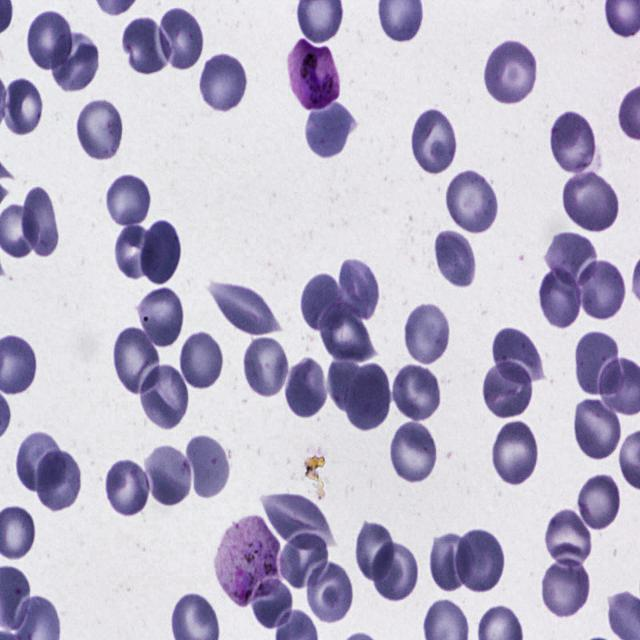difficult: (215, 514, 283, 611), (287, 38, 342, 112)
red blood cell: (257, 491, 337, 549), (452, 525, 509, 596), (444, 168, 501, 235), (210, 280, 282, 332), (482, 40, 538, 106), (113, 324, 163, 396), (138, 365, 191, 432), (563, 170, 619, 233), (298, 270, 348, 340), (182, 430, 232, 500), (320, 301, 377, 362), (489, 326, 548, 384), (482, 358, 536, 421), (576, 256, 627, 322), (402, 299, 452, 366), (14, 430, 66, 494), (75, 96, 126, 161), (388, 419, 439, 484), (122, 14, 175, 76), (573, 397, 624, 461), (491, 420, 539, 488), (136, 284, 187, 348), (544, 232, 600, 290), (411, 107, 458, 176), (157, 5, 206, 71), (34, 449, 83, 515), (49, 31, 101, 93), (199, 51, 250, 114), (304, 560, 355, 623), (541, 555, 591, 619), (242, 334, 290, 400), (144, 444, 193, 508), (332, 257, 381, 321), (346, 364, 392, 432), (26, 7, 74, 72), (575, 332, 622, 398), (548, 108, 597, 171), (278, 532, 328, 593), (368, 542, 420, 600), (304, 100, 354, 160), (283, 355, 329, 420), (544, 507, 593, 568), (20, 184, 60, 258), (102, 456, 151, 516), (576, 471, 624, 532), (392, 365, 443, 422), (537, 267, 583, 330), (429, 531, 474, 595), (104, 173, 154, 230), (180, 328, 226, 389), (431, 228, 477, 288), (140, 219, 182, 283), (325, 356, 369, 417), (2, 74, 45, 135), (355, 521, 396, 584), (114, 224, 156, 284), (250, 574, 292, 632)
